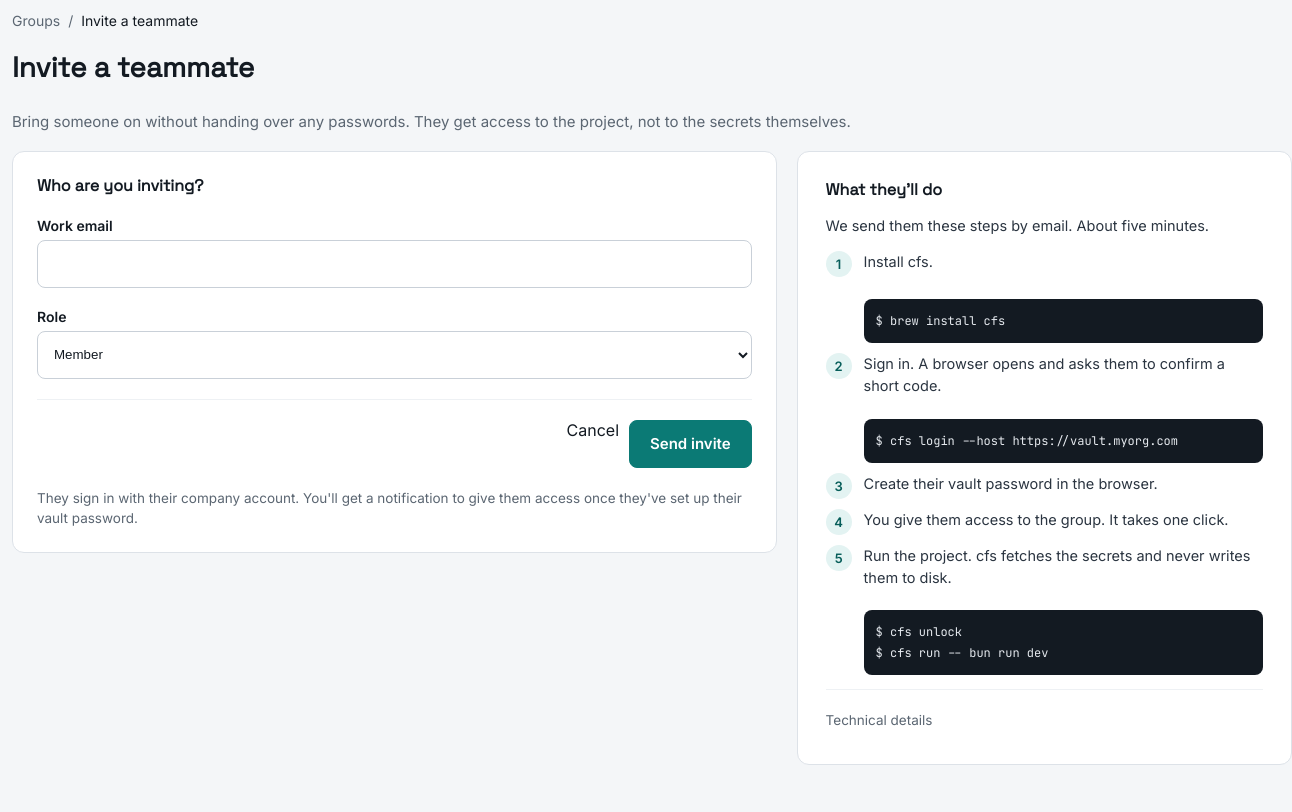
Test: Invite › checks the email before sending, then sends the invite with the role
Step 1. Type "not-an-email" into the field with id "invite-email" → x=394, y=264, box [37, 240, 752, 288]
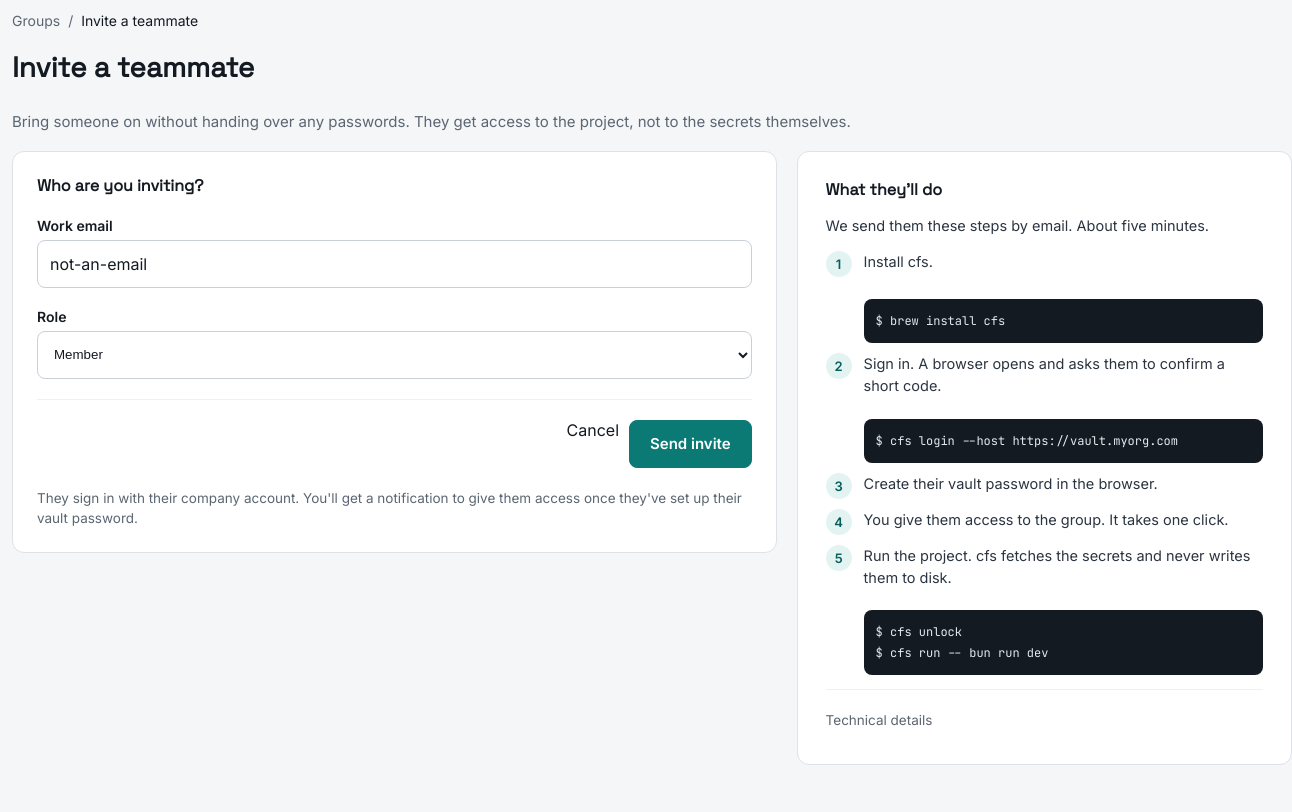
Step 2. Click the button "Send invite" → x=690, y=444, box [629, 420, 752, 468]
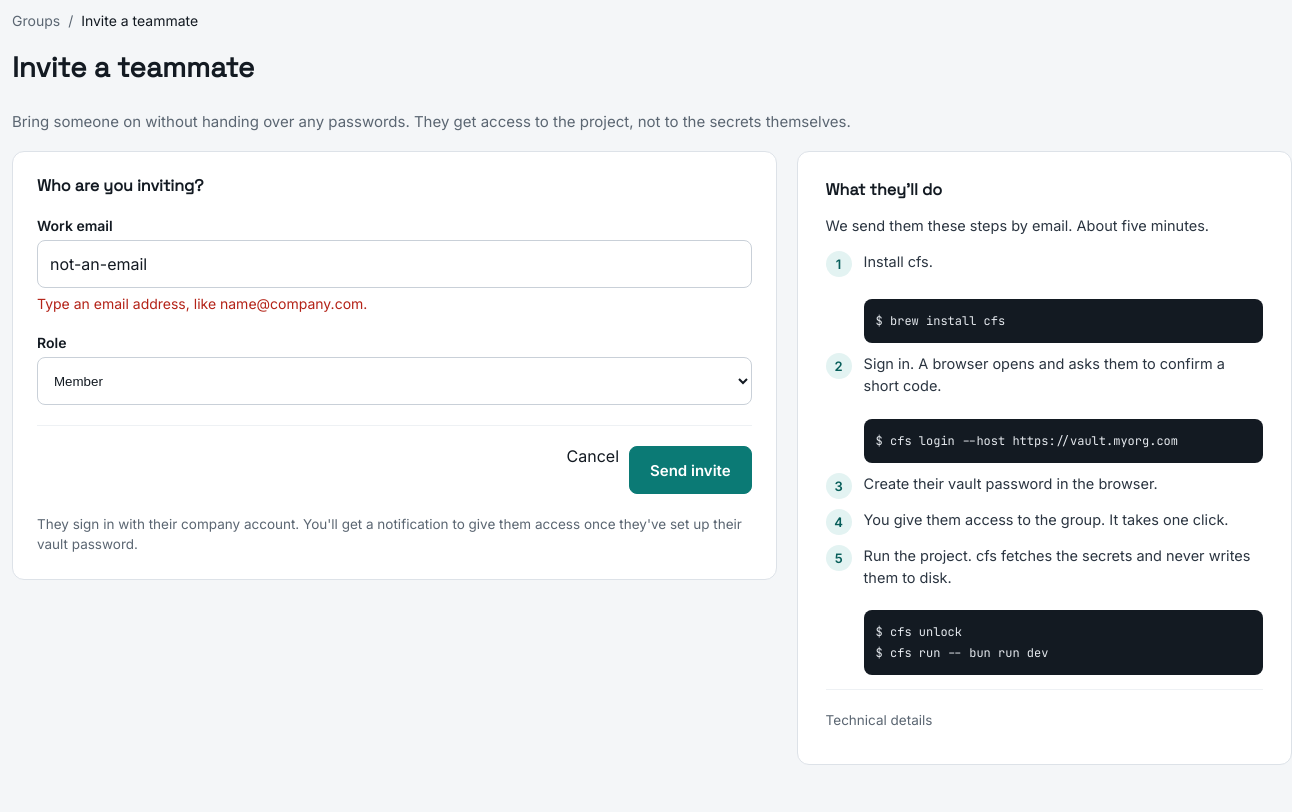
expect the text "Type an email address" is shown: met, box [37, 295, 367, 312]
Step 3. Replace the text in the field with id "invite-email" with "Dimas@myorg.com" → x=394, y=264, box [37, 240, 752, 288]
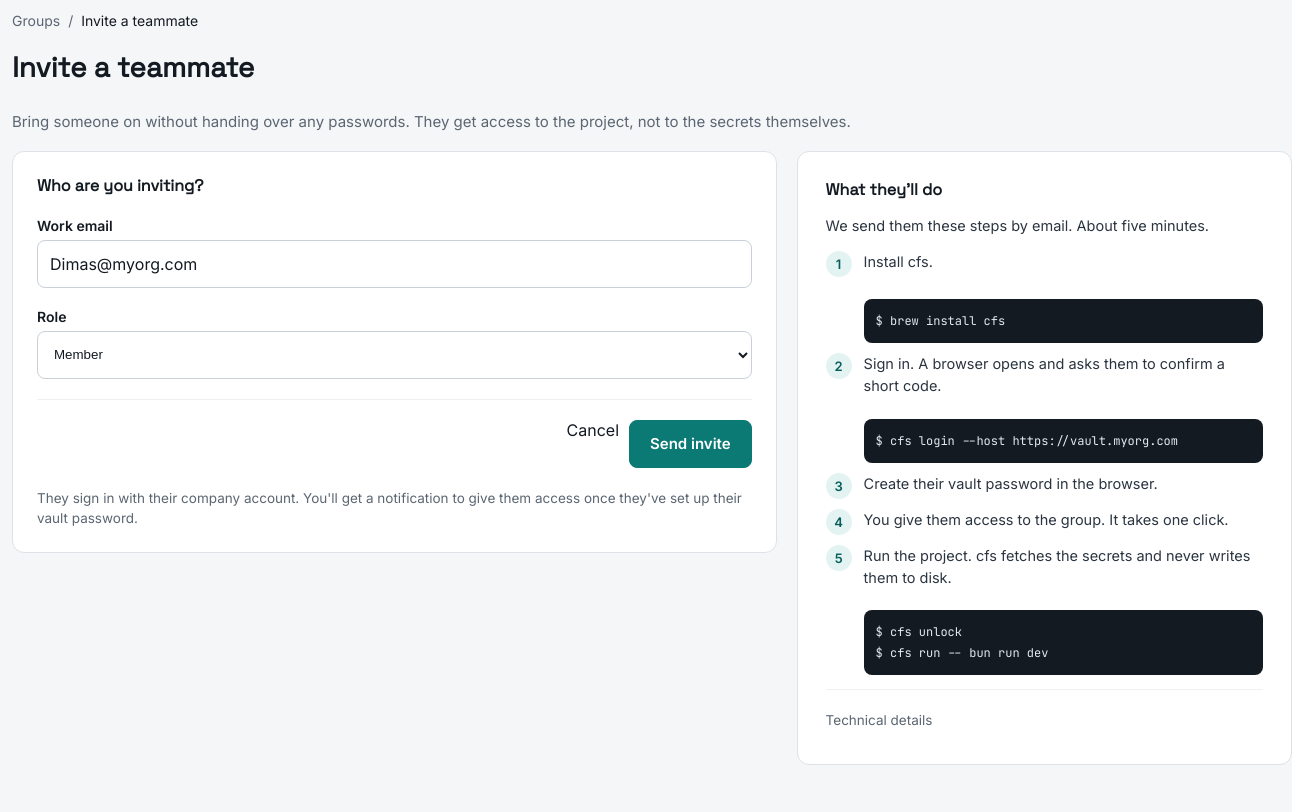
Step 4. Click the button "Send invite" → x=690, y=444, box [629, 420, 752, 468]
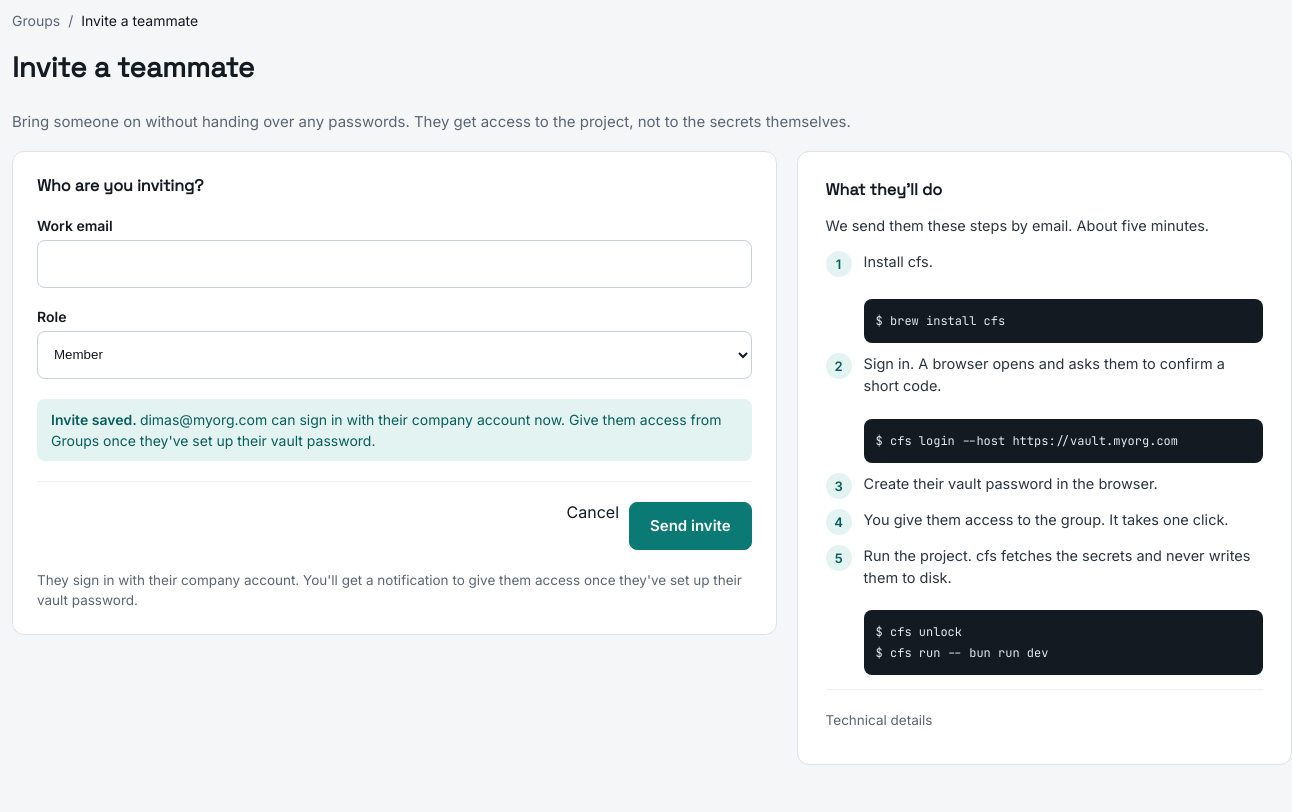
expect the text "Invite saved." is shown: met, box [51, 411, 140, 428]
